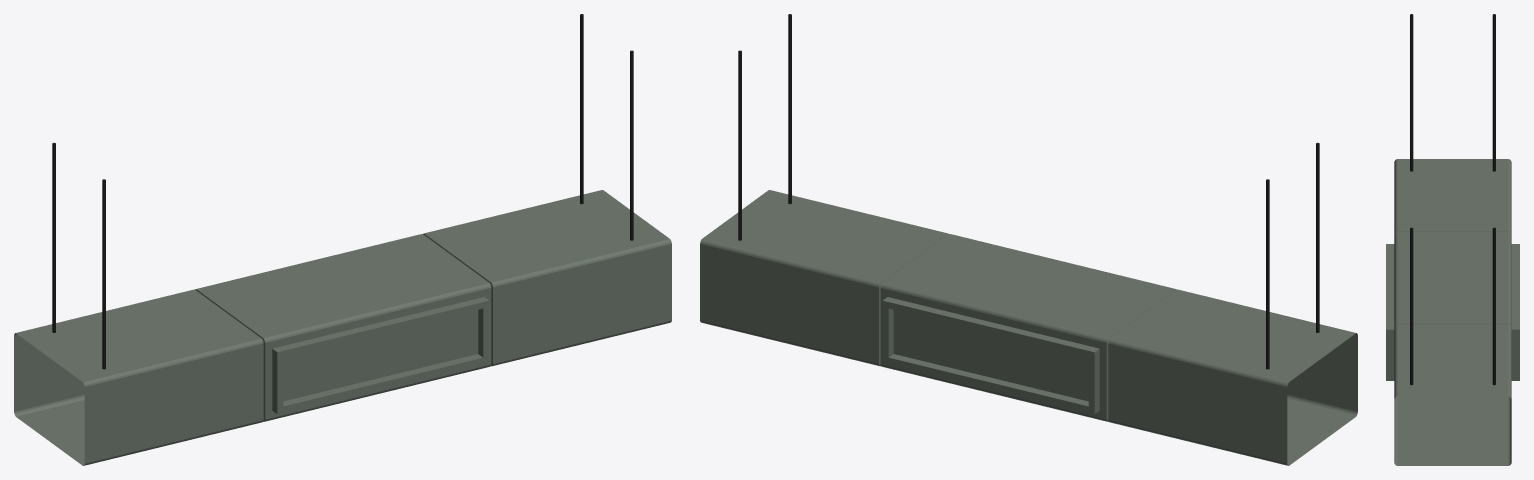
Rendered from SM_vent_01.fbx.
3 renders of one model, left to right at view 1: azimuth 30°, elevation 25°; view 2: azimuth 150°, elevation 25°; view 3: azimuth 270°, elevation 25°, orthographic. The views are drawn at different scales.
Parts seen in each view (by area): view 1: vent_01; view 2: vent_01; view 3: vent_01.
Part boxes in pixels (bbox=[...]): vent_01: bbox=[14, 14, 671, 465]; vent_01: bbox=[700, 14, 1357, 465]; vent_01: bbox=[1386, 14, 1519, 465].
Size of the model in its own units: 366 by 162 by 87.18.
